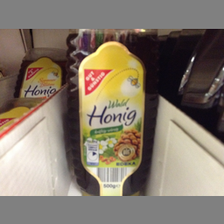honey: (67, 32, 159, 197)
